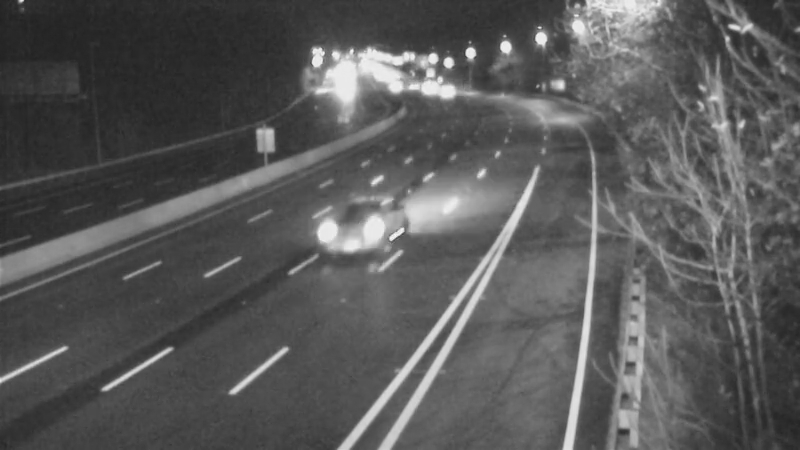vehicle: (307, 195, 387, 275), (420, 68, 470, 118)
